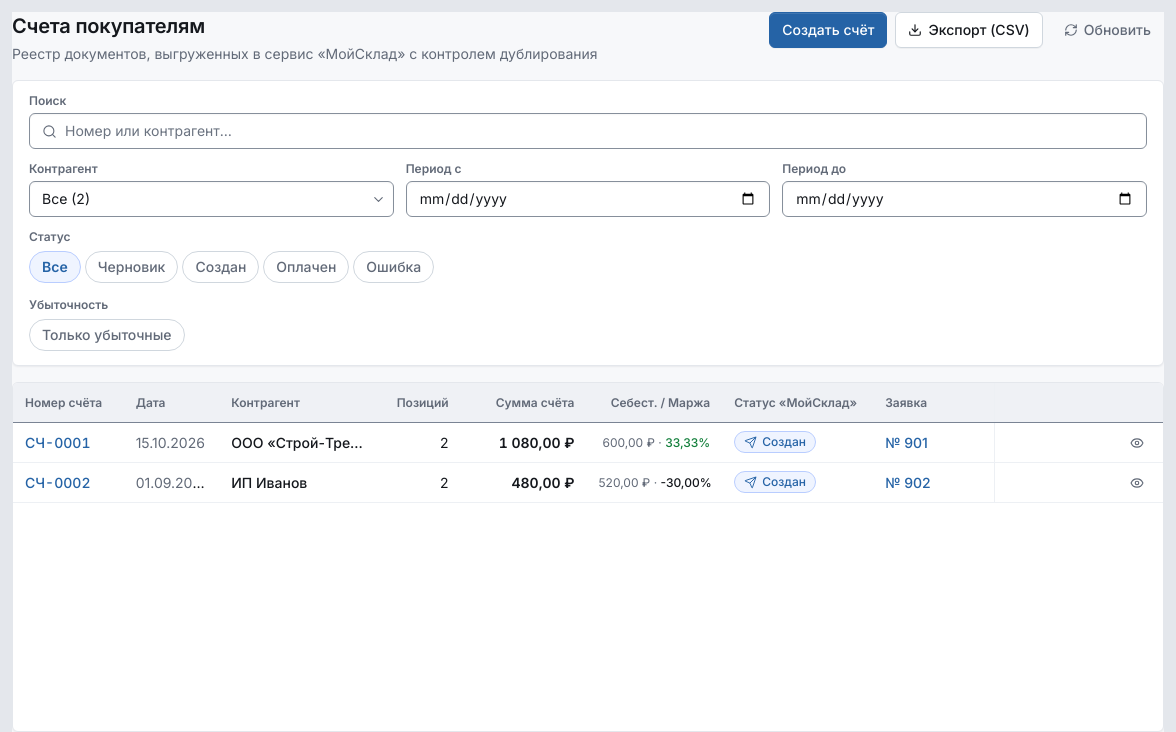
Test: Реестр счетов › фильтрует по периоду и по убыточности
This screenshot has width=1176, height=732.
Expected: the button "СЧ-0002" is shown, [25,472,90,492]
Click the button "Только убыточные": (107, 335) [29,319,185,351]
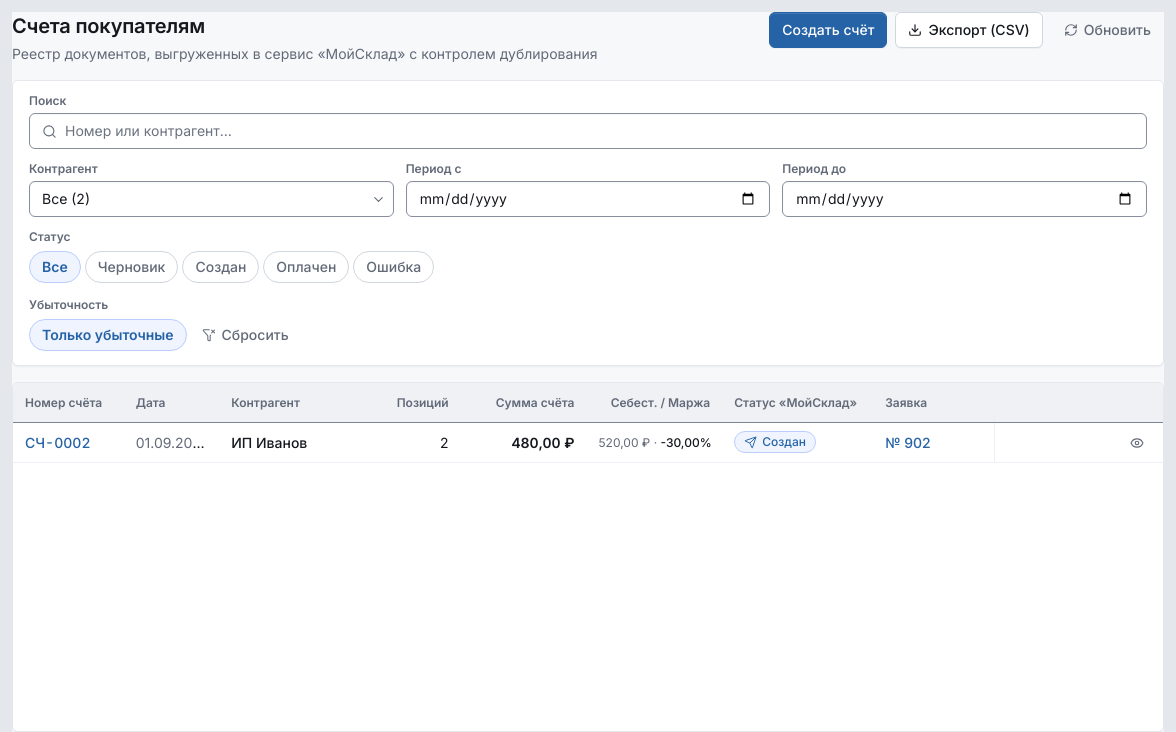
Expected: the button "СЧ-0002" is shown, [25,432,90,452]
Now the button "СЧ-0001" is gone
Click the button "Только убыточные": (108, 335) [29,319,187,351]
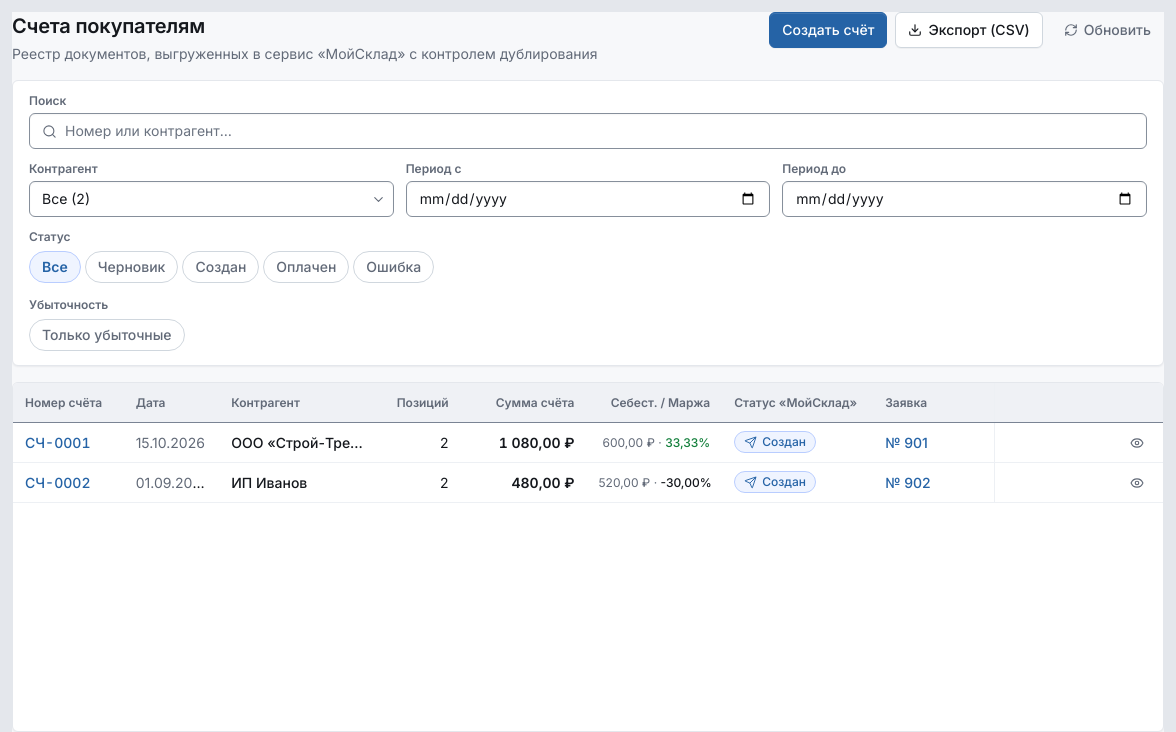
In the date field labelled "Период с": (588, 199) [419,188,757,210], type "2026-10-01"
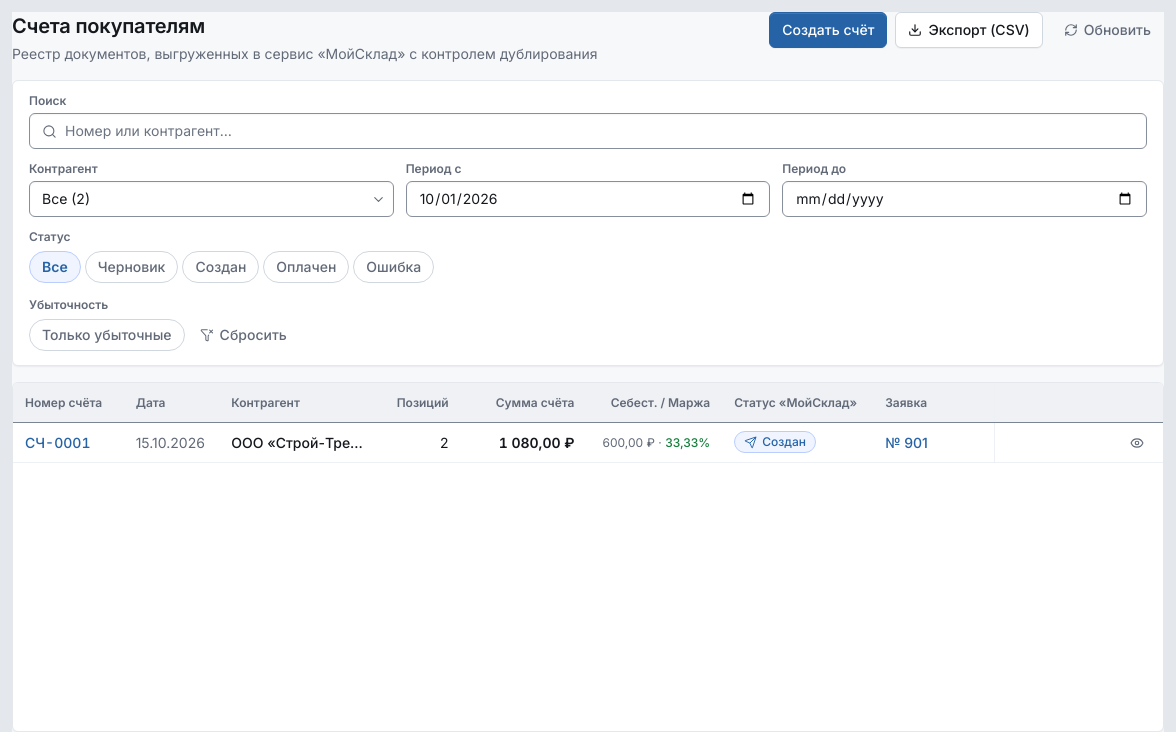
Now the button "СЧ-0001" is shown, box [25,432,90,452]
Now the button "СЧ-0002" is gone
